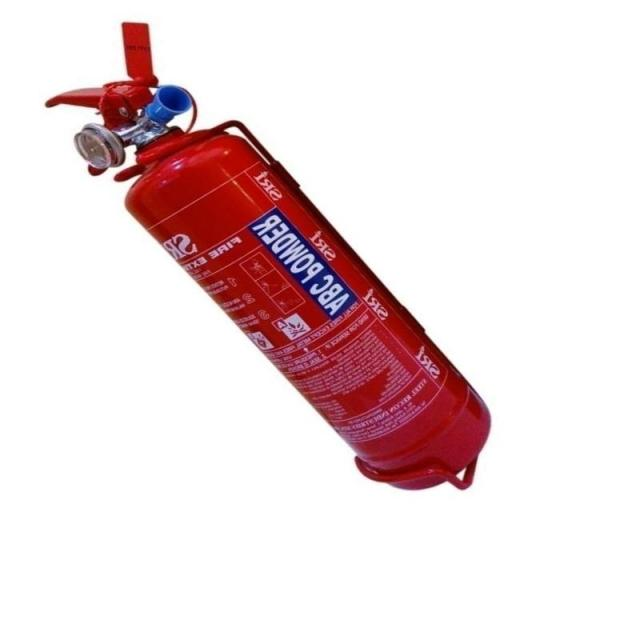fire_extinguisher: (30, 12, 498, 502)
